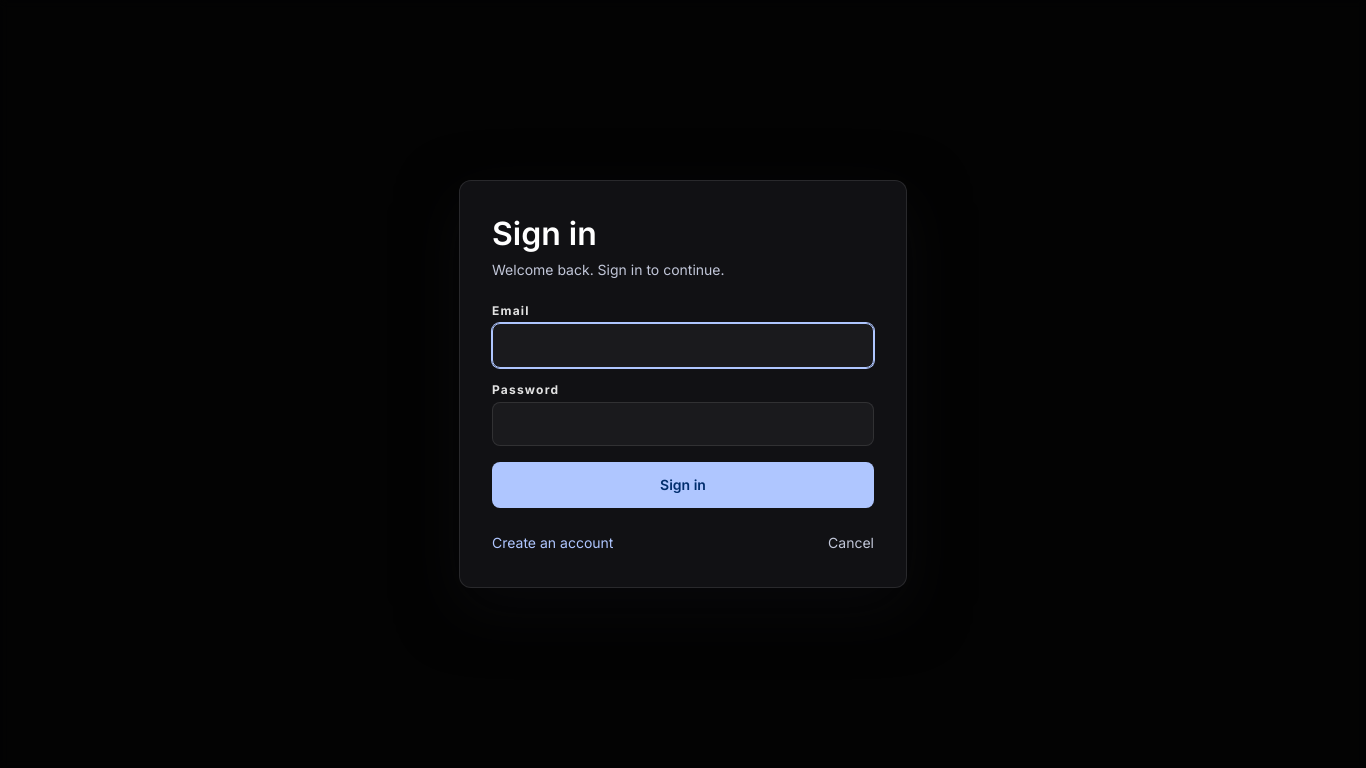
Test case: SignInDialog › shows validation errors for invalid email and short password
The width and height of the screenshot is (1366, 768).
Type "not-an-email" into the field labelled "Email".
click(683, 345); type("not-an-email")  # box [492,323,874,368]
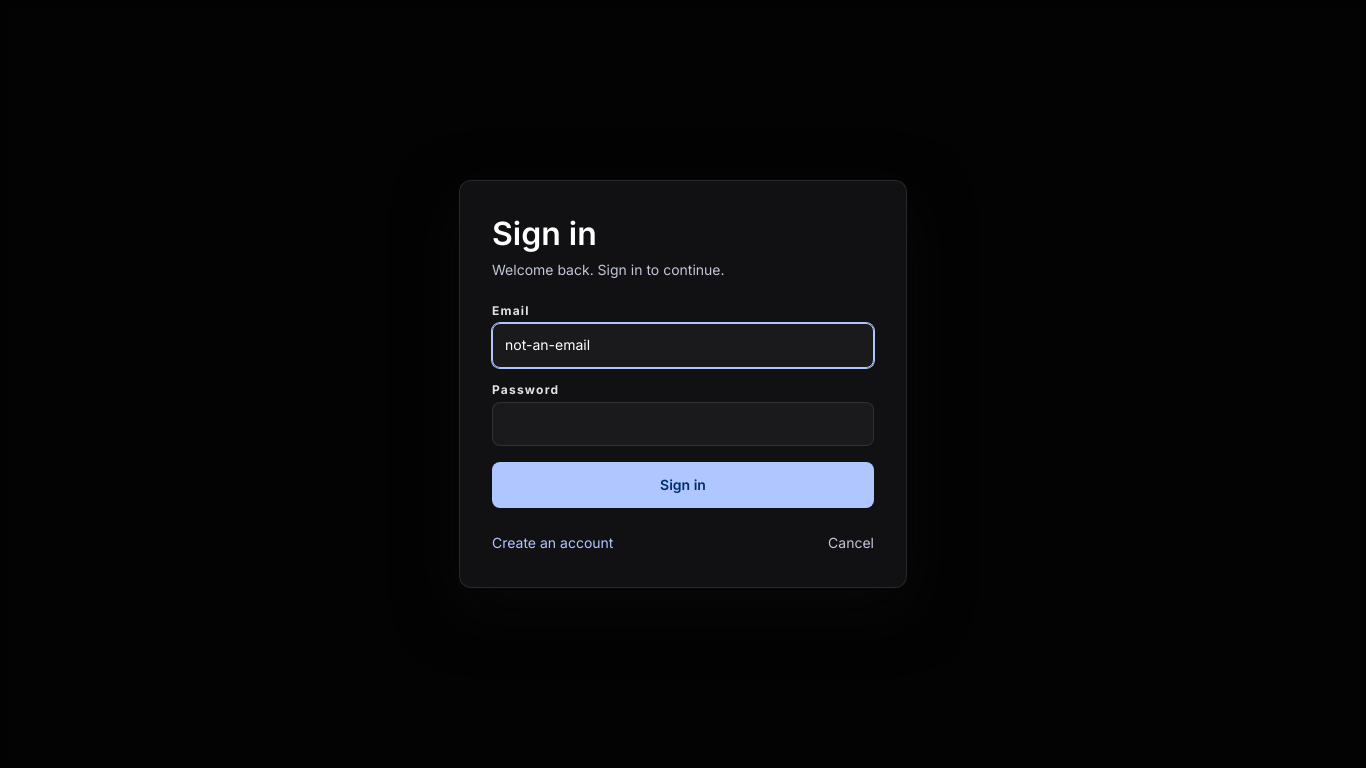
Type "short" into the password field labelled "Password".
click(683, 424); type("short")  # box [492,402,874,446]
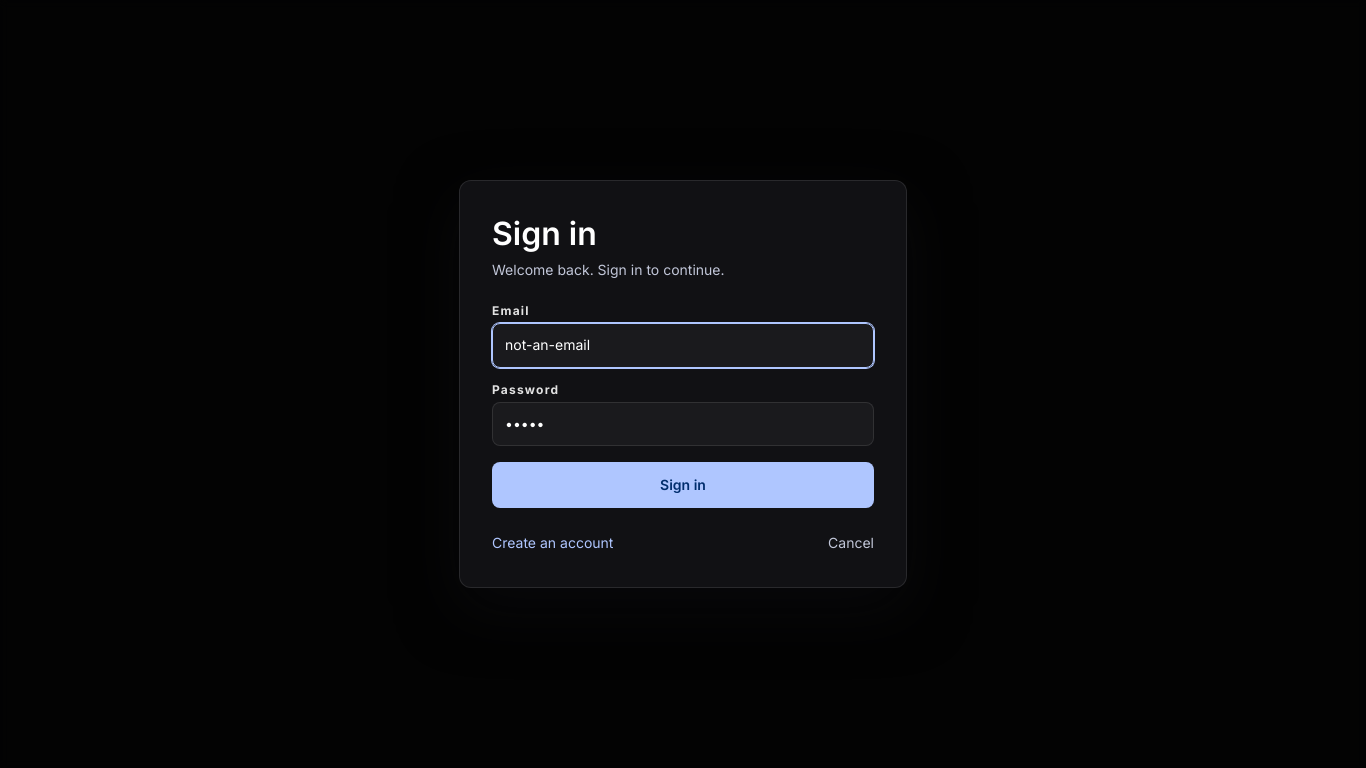
Click the button "Sign in".
click(683, 485)  # box [492,462,874,508]
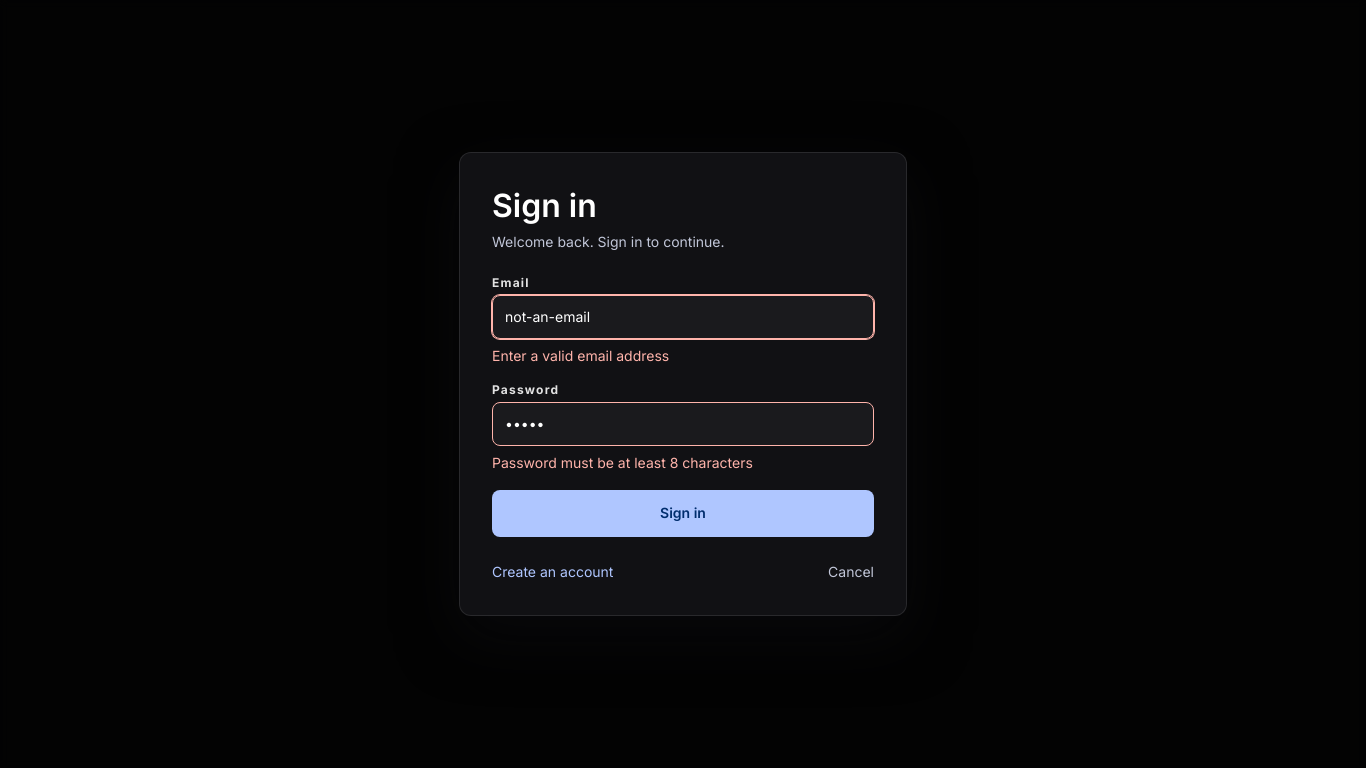
Now the text "Enter a valid email address" is shown, box [492,347,669,364]
Now the text "Password must be at least 8 characters" is shown, box [492,454,753,471]
